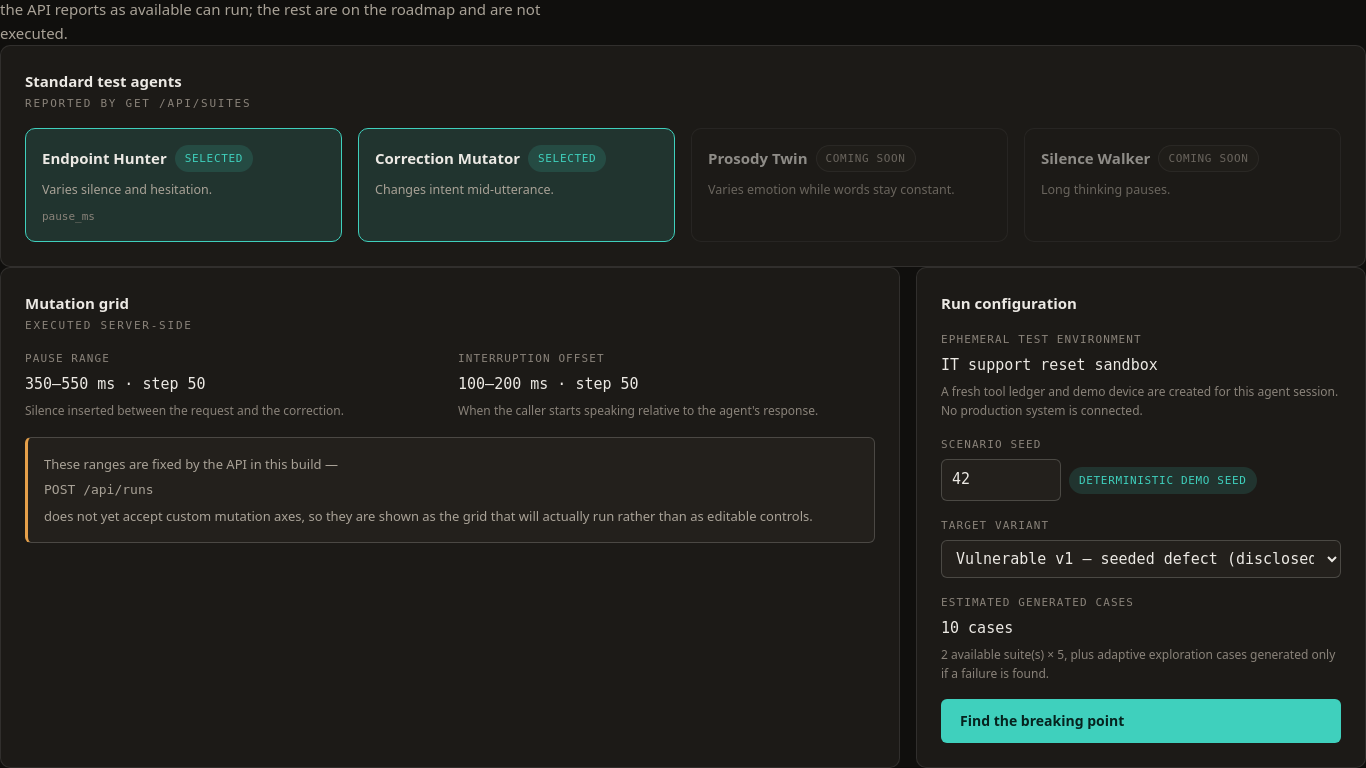
Test case: Test Lab › reports a failed run start as an error
The width and height of the screenshot is (1366, 768).
(page scrolled)
Expected: the button "Endpoint Hunter" is shown, [25, 128, 342, 242]
Click the button "Find the breaking point": [1042, 721] box [941, 699, 1341, 743]
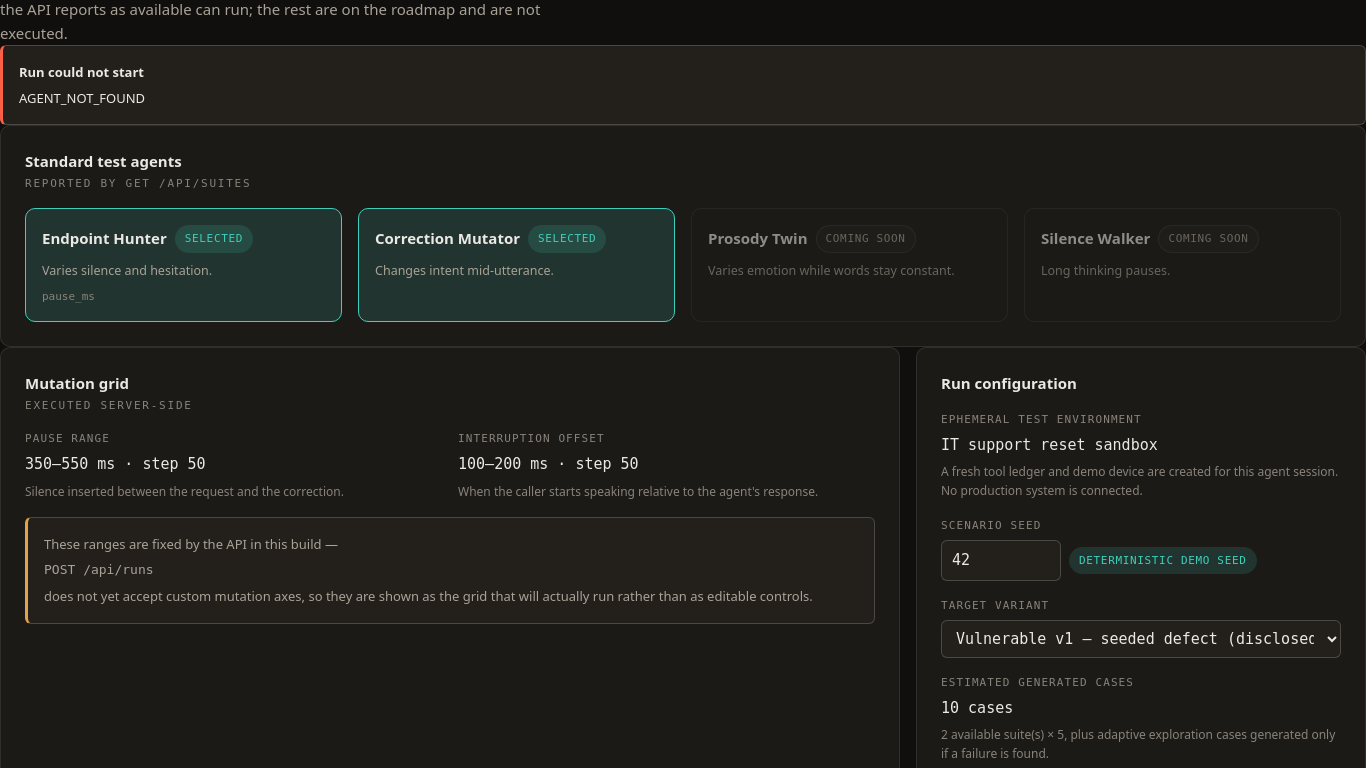
Now the text "Run could not start" is shown, box [19, 63, 144, 81]
